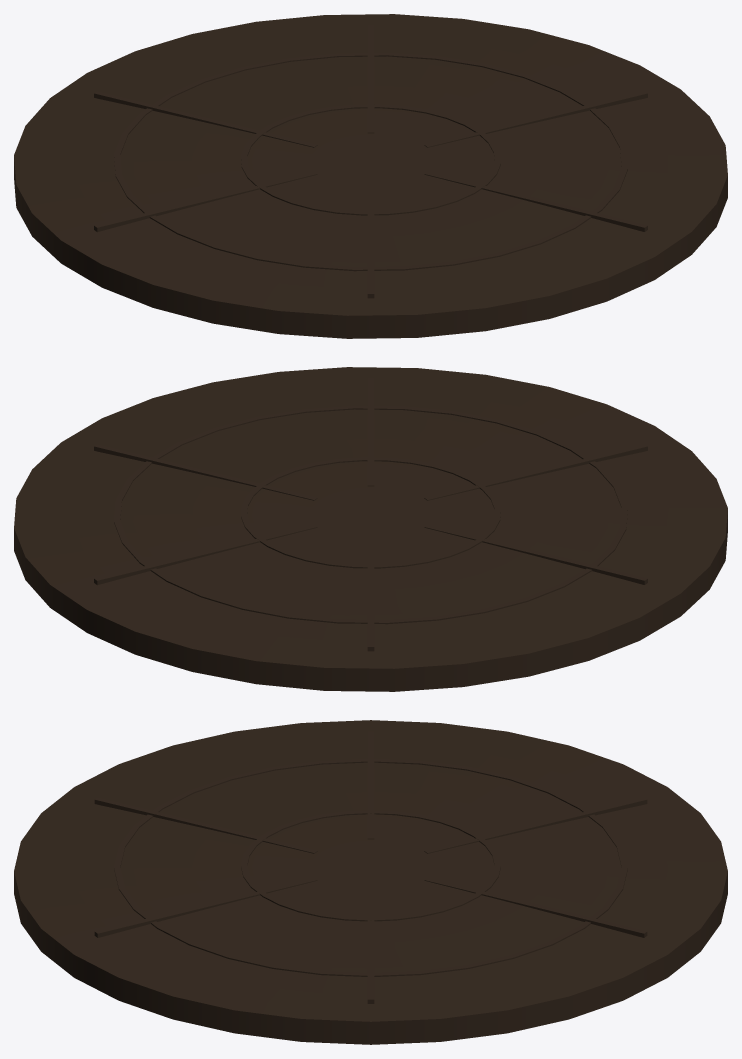
File: tz12_ablator.obj
The picture shows the model from 3 angles, top to bottom: view 1: azimuth 30°, elevation 25°; view 2: azimuth 150°, elevation 25°; view 3: azimuth 270°, elevation 25°; orthographic projection.
Parts seen in each view (by area): view 1: tz12_ablator; view 2: tz12_ablator; view 3: tz12_ablator.
Part boxes in pixels (bbox=[...]): tz12_ablator: bbox=[14, 14, 727, 338]; tz12_ablator: bbox=[14, 367, 727, 691]; tz12_ablator: bbox=[14, 720, 727, 1044].
Size of the model in its own units: 4.5 by 0.1986 by 4.5.
